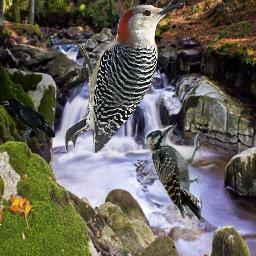Crow: (2, 98, 55, 140)
Woodpecker: (65, 2, 184, 153), (144, 125, 206, 224)
